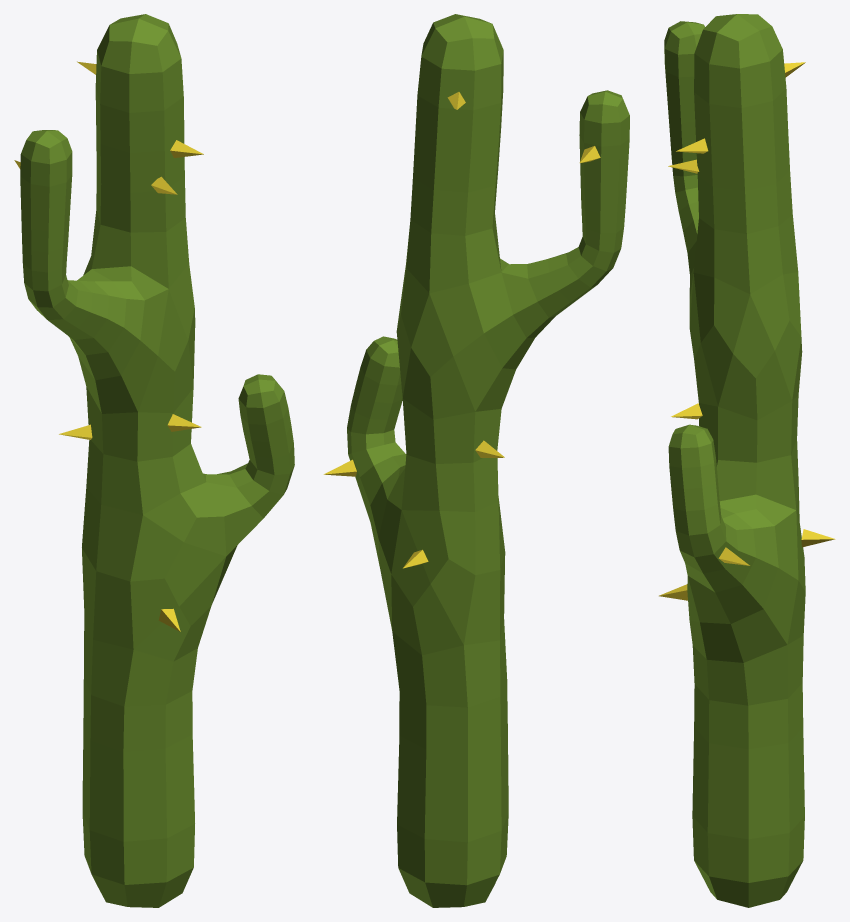
File: kaktusss.glb
3 views of the same model, side by side, from view 1: azimuth 30°, elevation 25°; view 2: azimuth 150°, elevation 25°; view 3: azimuth 270°, elevation 25° (orthographic).
Visible parts, largest first — view 1: Plane; view 2: Plane; view 3: Plane.
Boxes of the visible parts, x1,y1,x2,y2 form: Plane: [20, 14, 294, 907]; Plane: [347, 14, 629, 907]; Plane: [664, 14, 805, 907].
Size of the model in its own units: 0.0935 by 0.2912 by 0.053.
